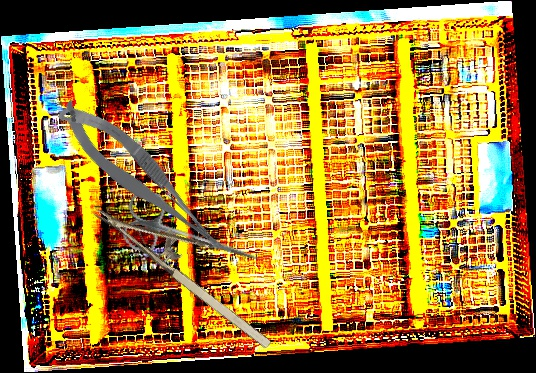Iris Scissors: (117, 186, 270, 286)
Micro Scissor: (50, 84, 232, 274)
Needle Holder: (91, 172, 296, 355)
